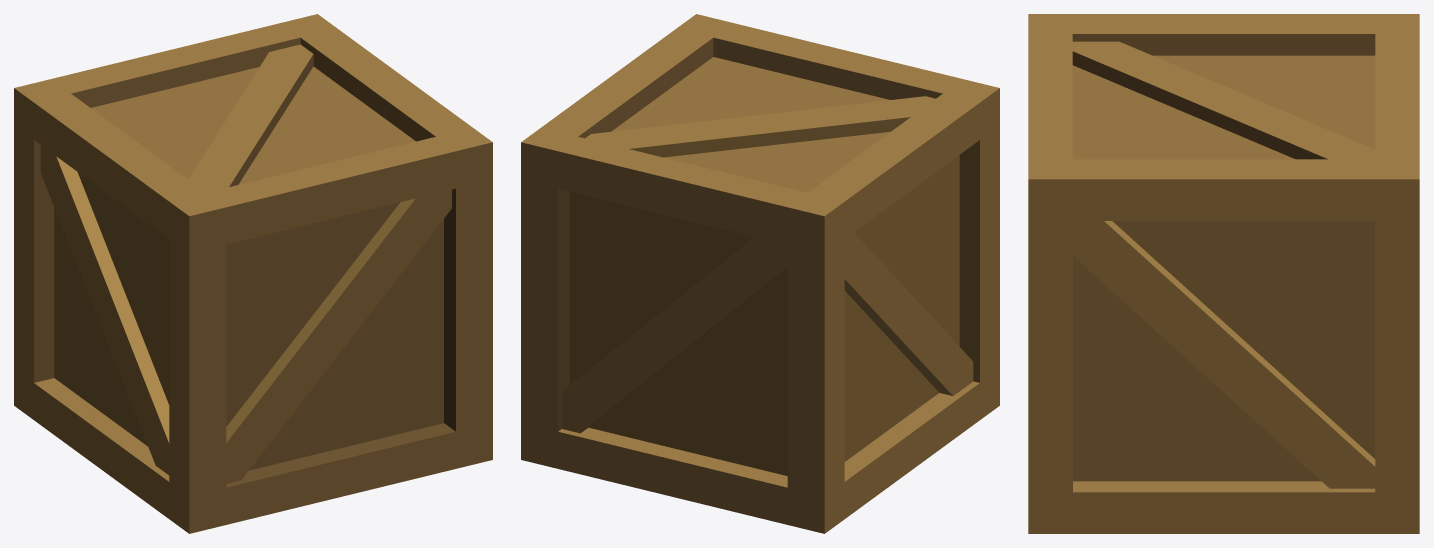
Rendered from SA_Prop_Crate_01.glb.
3 views of the same model, side by side, from view 1: azimuth 30°, elevation 25°; view 2: azimuth 150°, elevation 25°; view 3: azimuth 270°, elevation 25° (orthographic). The views are drawn at different scales.
Parts seen in each view (by area): view 1: SA_Prop_Crate_01; view 2: SA_Prop_Crate_01; view 3: SA_Prop_Crate_01.
Part boxes in pixels (x1,y1,x2,y2): SA_Prop_Crate_01: (14, 14, 492, 533); SA_Prop_Crate_01: (521, 14, 999, 533); SA_Prop_Crate_01: (1028, 14, 1419, 533).
Bounding box in the file's own units: 0.6528 × 0.6528 × 0.6528.
Materials: 1 (1 with a texture image).
